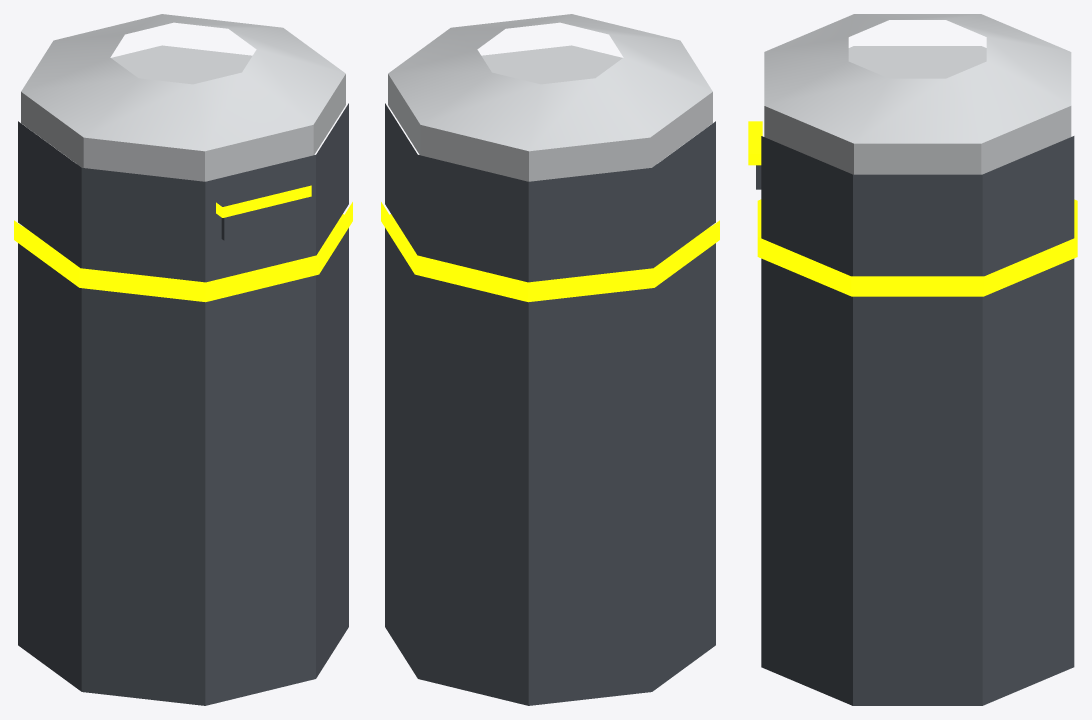
File: ext_bin_recycler_04.glb
3 renders of one model, left to right at view 1: azimuth 30°, elevation 25°; view 2: azimuth 150°, elevation 25°; view 3: azimuth 270°, elevation 25°, orthographic.
Visible parts, largest first — view 1: Tower, Cap, Amber_Ring, Chute_Throats, Chute_Hoods; view 2: Tower, Cap, Amber_Ring; view 3: Tower, Cap, Amber_Ring, Chute_Hoods.
Part boxes in pixels (x1,y1,x2,y2): Tower: (18,103,348,705); Cap: (21,14,345,181); Amber_Ring: (14,202,352,302); Chute_Throats: (221,199,302,240); Chute_Hoods: (216,185,311,217); Tower: (385,103,715,705); Cap: (388,14,712,181); Amber_Ring: (381,202,719,302); Tower: (761,136,1074,705); Cap: (764,14,1071,174); Amber_Ring: (757,199,1077,296); Chute_Hoods: (748,121,762,165).
Bounding box in the file's own units: 0.4915 × 1 × 0.506.
